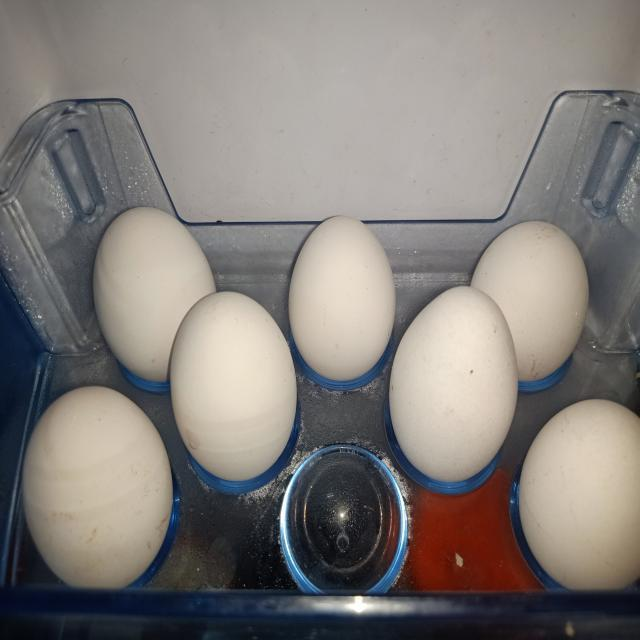Egg: (22, 386, 173, 589), (389, 286, 519, 482), (169, 291, 297, 482), (520, 400, 640, 590), (93, 206, 215, 382), (472, 220, 590, 381), (289, 215, 396, 390)
